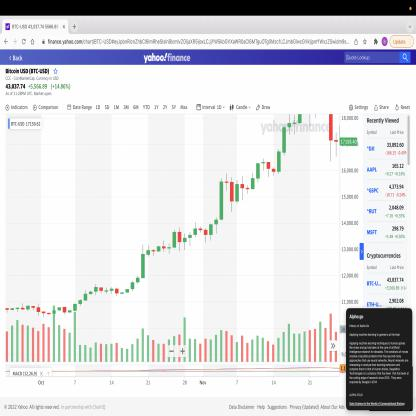Bearish: Evening Star Doji: (218, 170, 235, 223)
